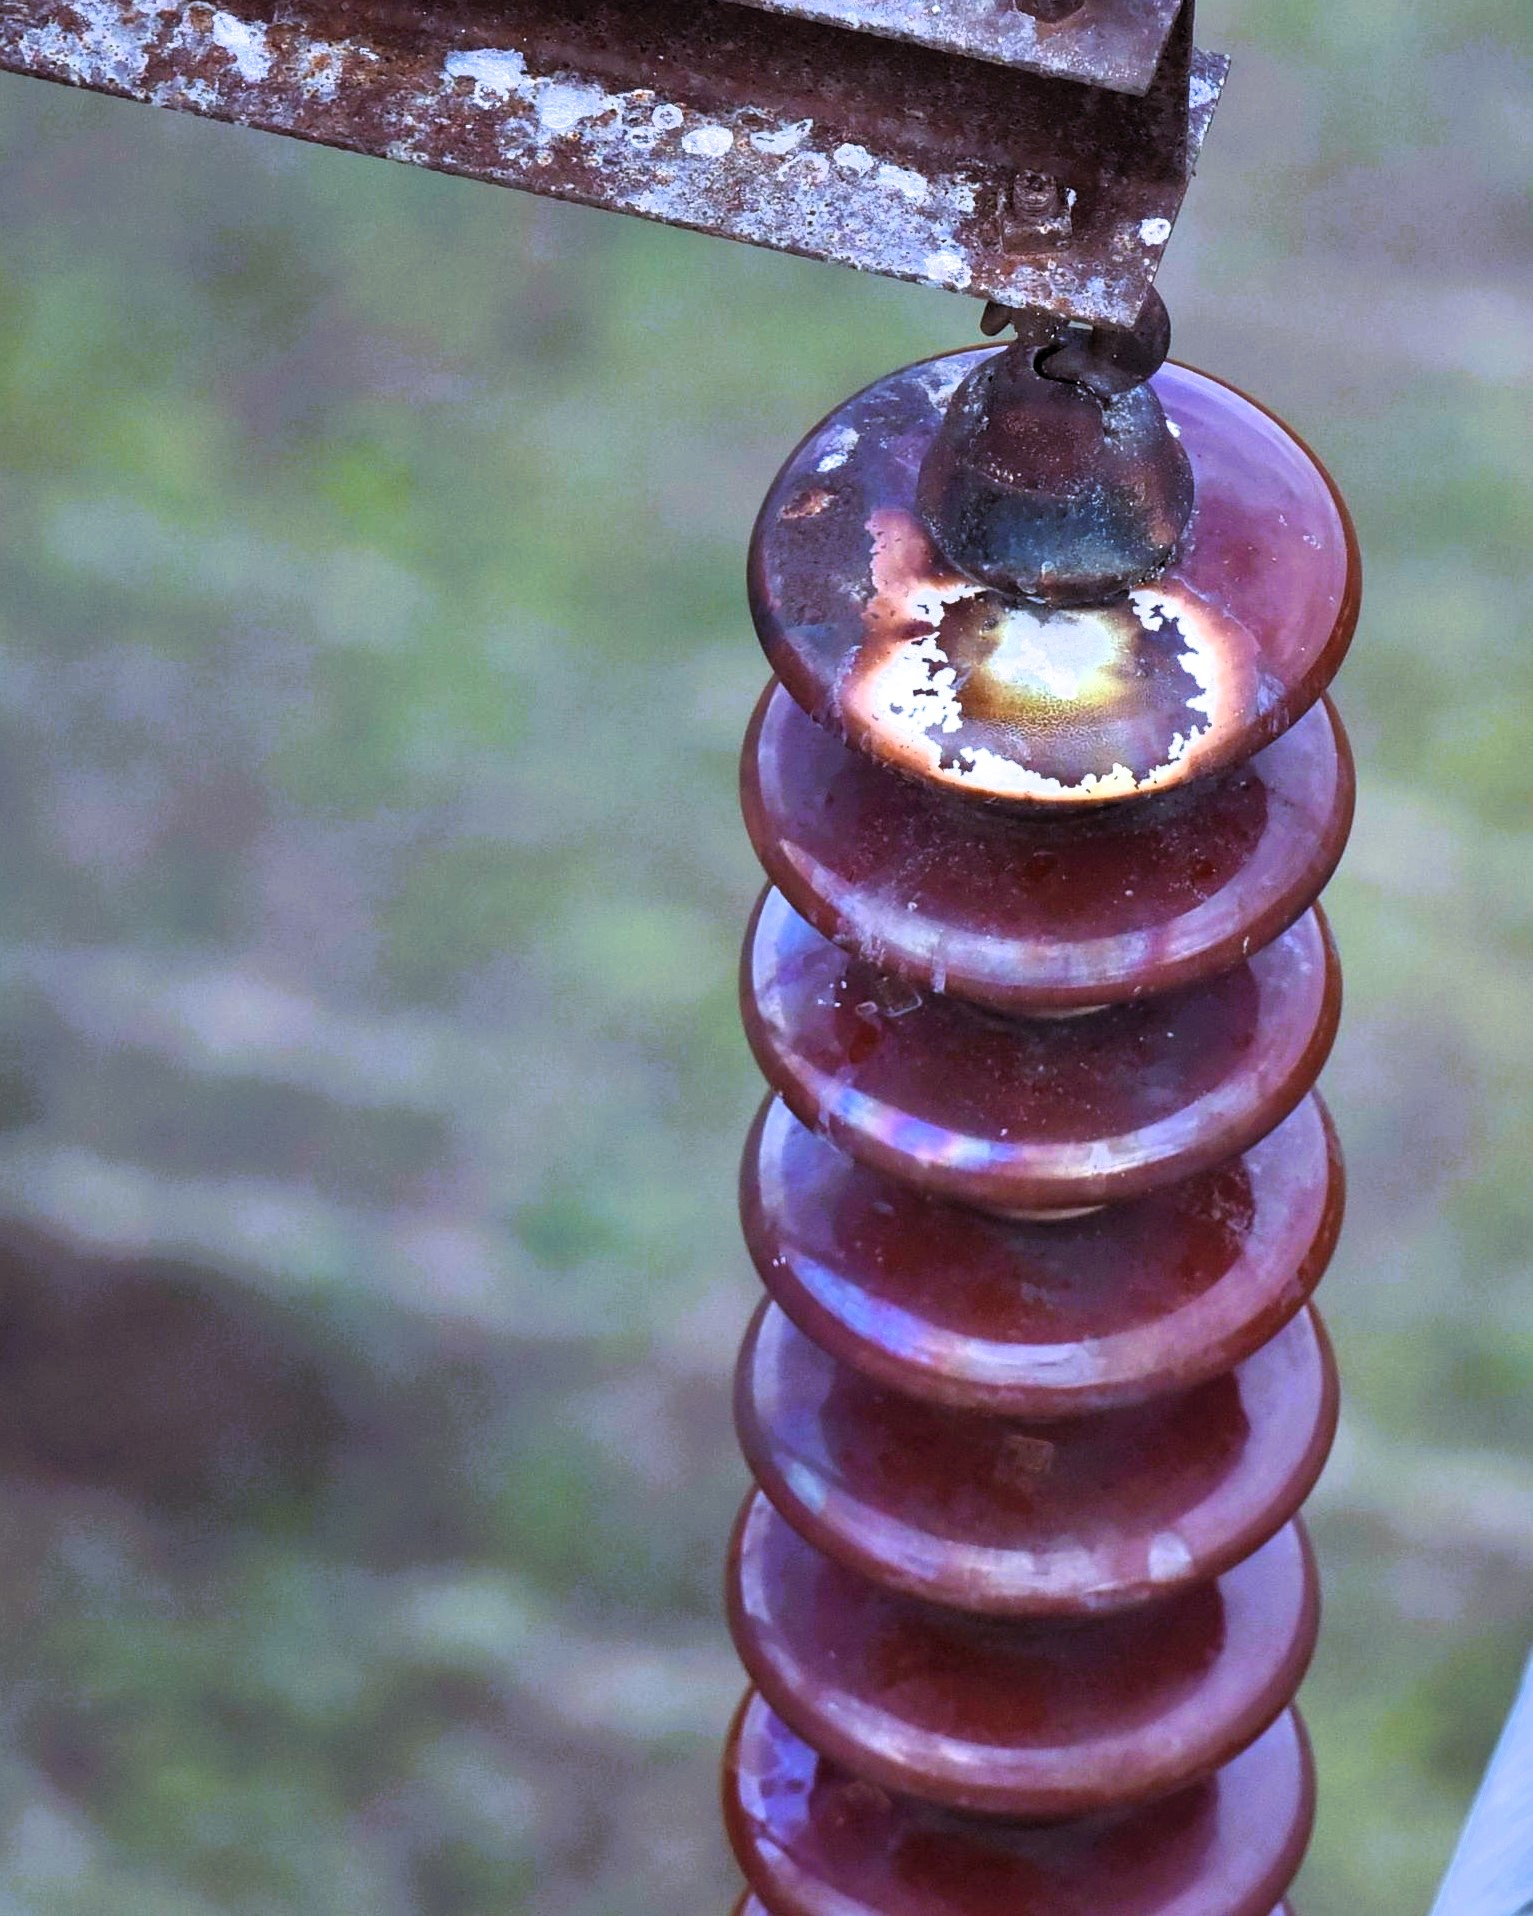Insulator flashover: (718, 322, 1378, 812)
